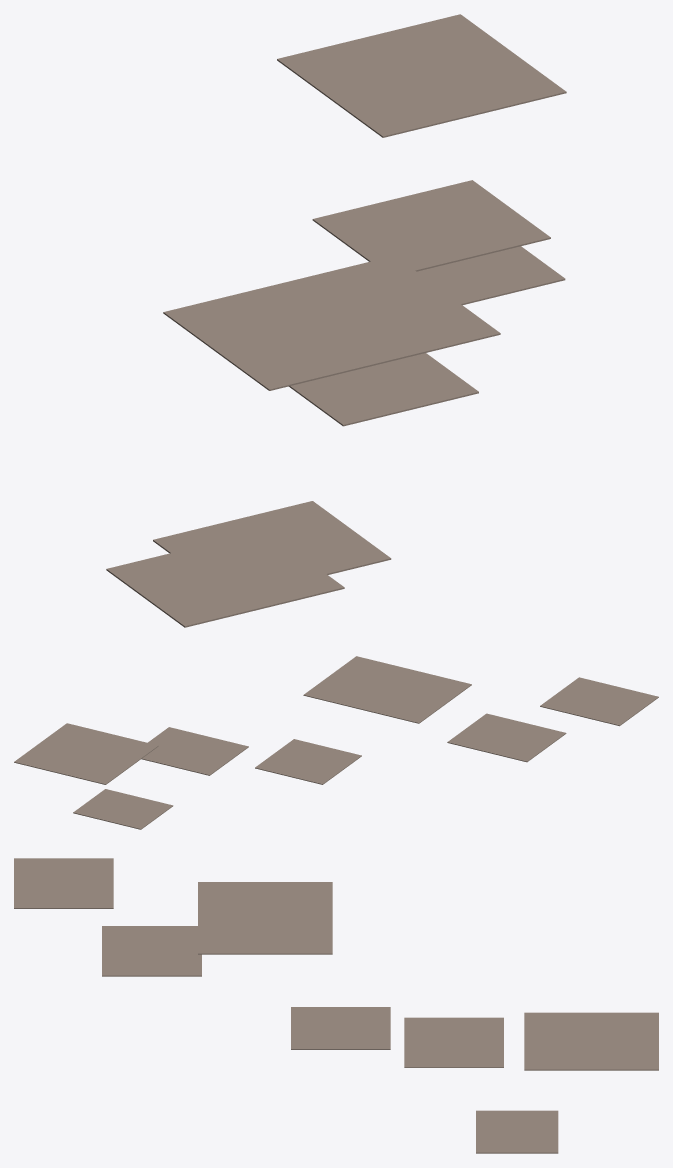
File: chunk_3_3.glb
The picture shows the model from 3 angles, top to bottom: view 1: azimuth 30°, elevation 25°; view 2: azimuth 150°, elevation 25°; view 3: azimuth 270°, elevation 25°; orthographic projection. The views are drawn at different scales.
Parts seen in each view (by area): view 1: chunk_3_3__building; view 2: chunk_3_3__building; view 3: chunk_3_3__building.
Part boxes in pixels (x1,y1,x2,y2): chunk_3_3__building: (106,14,566,627); chunk_3_3__building: (14,656,658,829); chunk_3_3__building: (14,858,658,1153).
Size of the model in its own units: 65.68 by 14.12 by 73.7.
